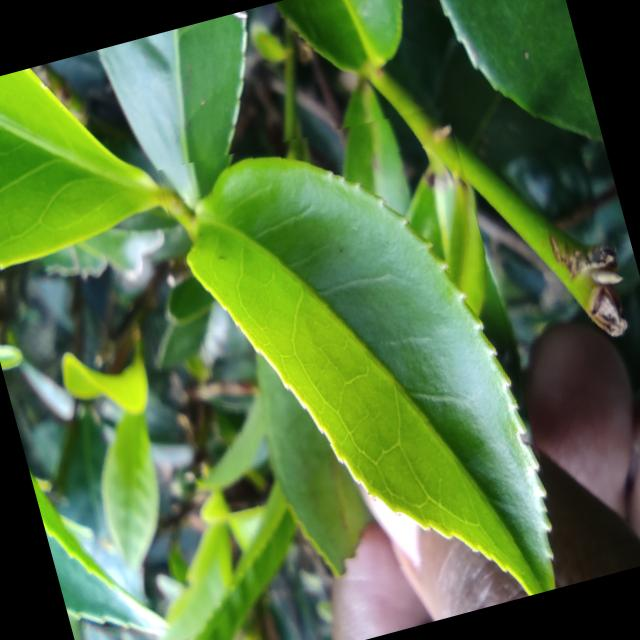Category B 2-4 days: (153, 92, 573, 640)
